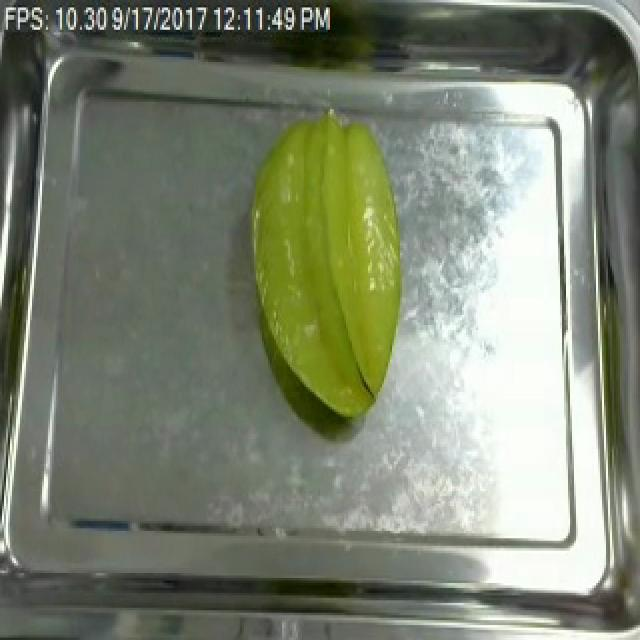fruit: (232, 101, 414, 436)
